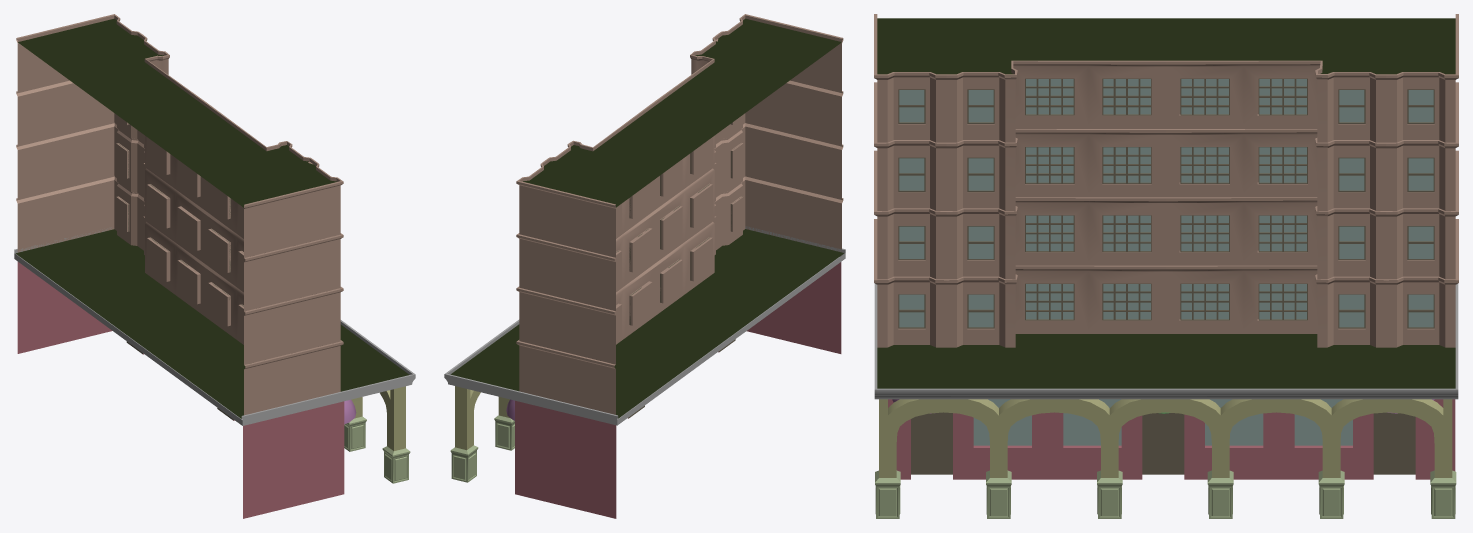
The model's file is Edificio1.fbx.
The picture shows the model from 3 angles, left to right: view 1: azimuth 30°, elevation 25°; view 2: azimuth 150°, elevation 25°; view 3: azimuth 270°, elevation 25°; orthographic projection. The views are drawn at different scales.
Visible parts, largest first — view 1: pPlane26; view 2: pPlane26; view 3: pPlane26.
Boxes of the visible parts, box(x1,y1,x2,y2) form: pPlane26: box(14, 14, 415, 518); pPlane26: box(444, 14, 845, 518); pPlane26: box(874, 14, 1458, 518).
Bounding box in the file's own units: 754 × 1311 × 1728.
